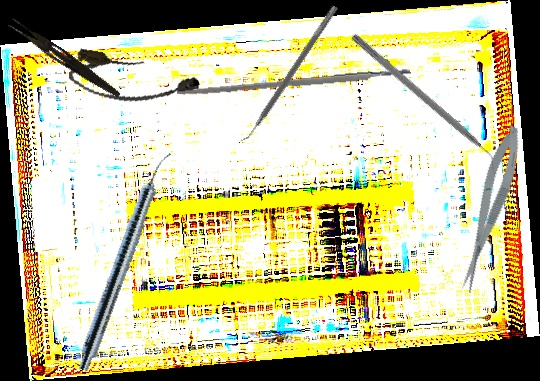Cannula: (65, 47, 203, 115)
Chopper: (343, 32, 505, 176)
Dressing Forceps: (5, 17, 125, 100)
Handpiece: (74, 147, 175, 375)
Micro Scissor: (449, 122, 530, 296)
Scalpel Handle: (177, 67, 411, 99)
Spatula Surgical: (236, 0, 339, 148)
